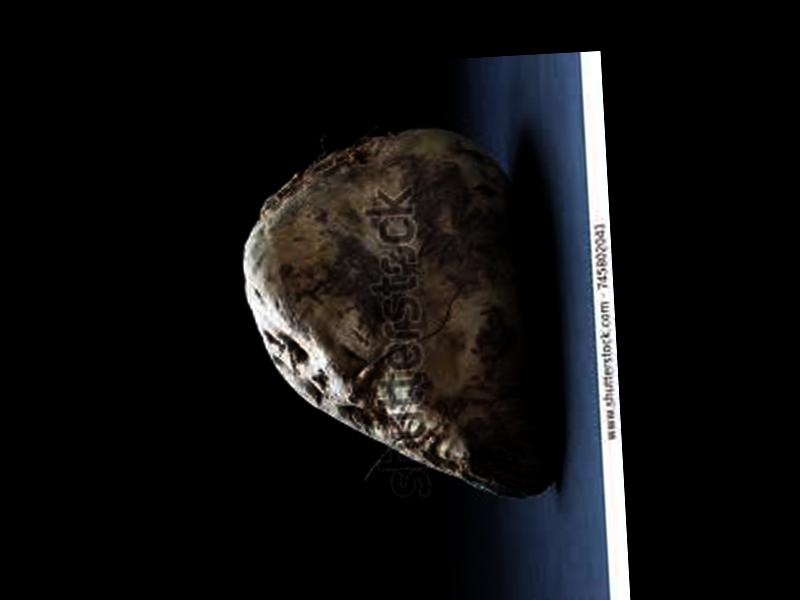Beet: (238, 117, 553, 506)
